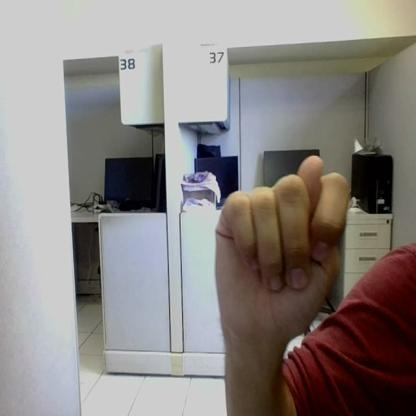T: (216, 155, 348, 324)
